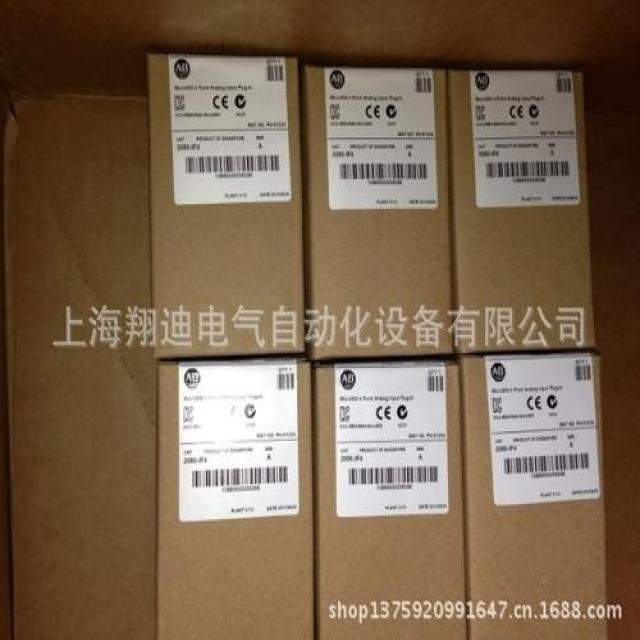box: (1, 85, 156, 640), (146, 51, 305, 360), (155, 356, 314, 640), (302, 66, 452, 360), (314, 361, 467, 640), (461, 350, 608, 640), (448, 71, 596, 353)
